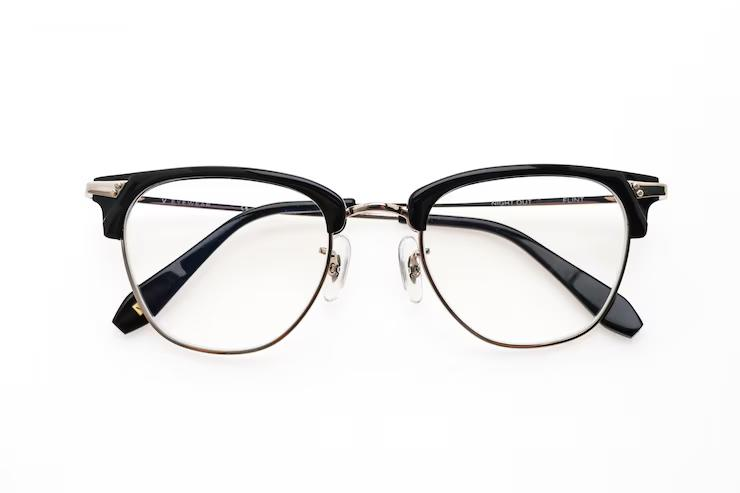spectacles: (57, 146, 676, 373)
